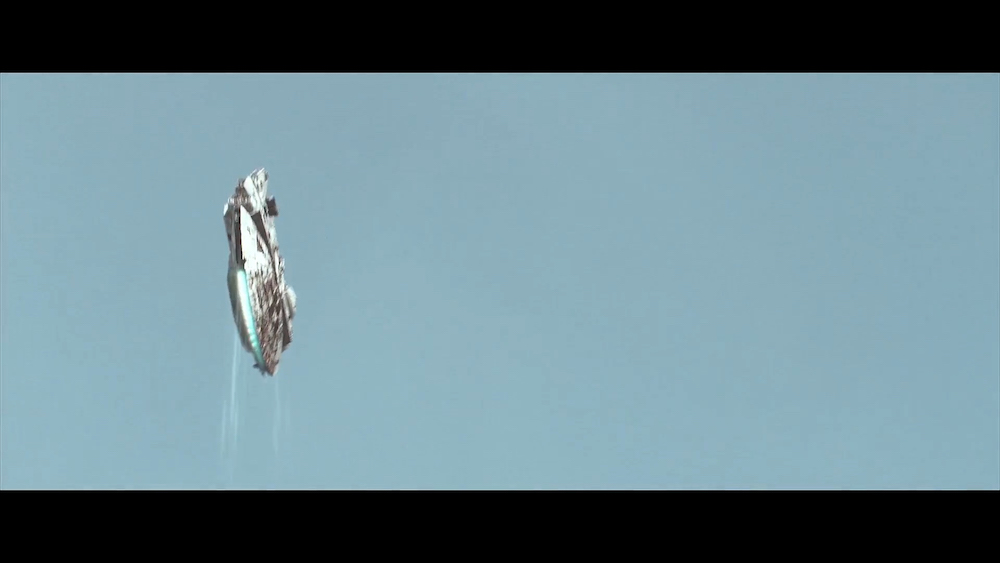Millennium Falcon: (223, 167, 300, 381)
